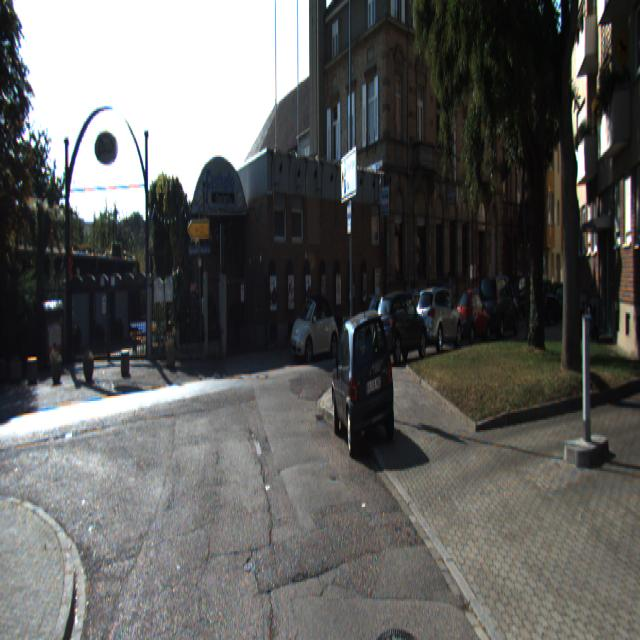Car: (331, 307, 396, 450), (373, 288, 429, 369), (290, 292, 340, 362), (415, 284, 463, 354), (479, 272, 521, 338), (455, 287, 491, 344)
DontCare: (536, 276, 570, 316)
